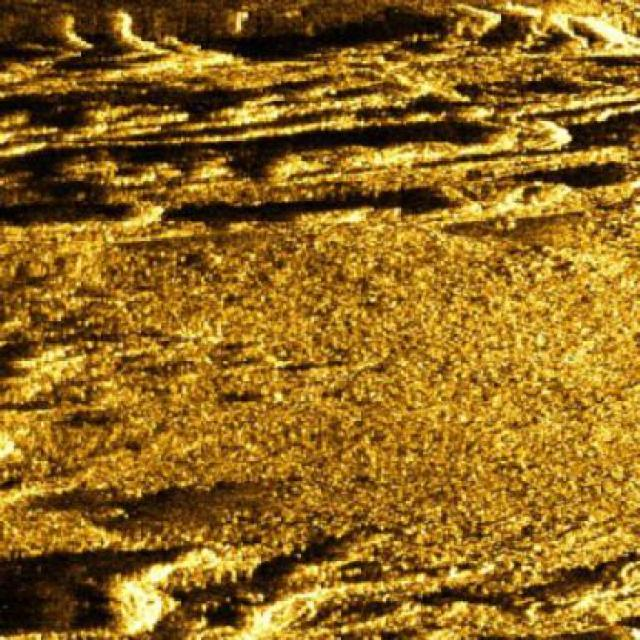bedrock group: (0, 0, 638, 264), (0, 515, 638, 638)
